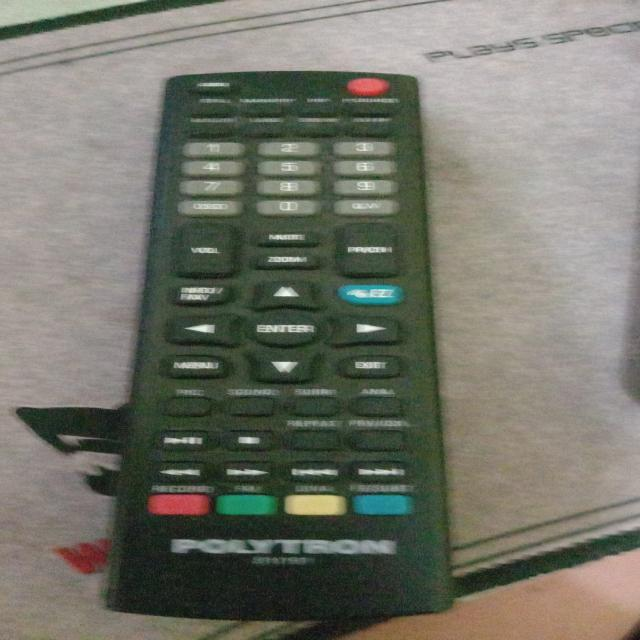remote: (59, 69, 459, 623)
